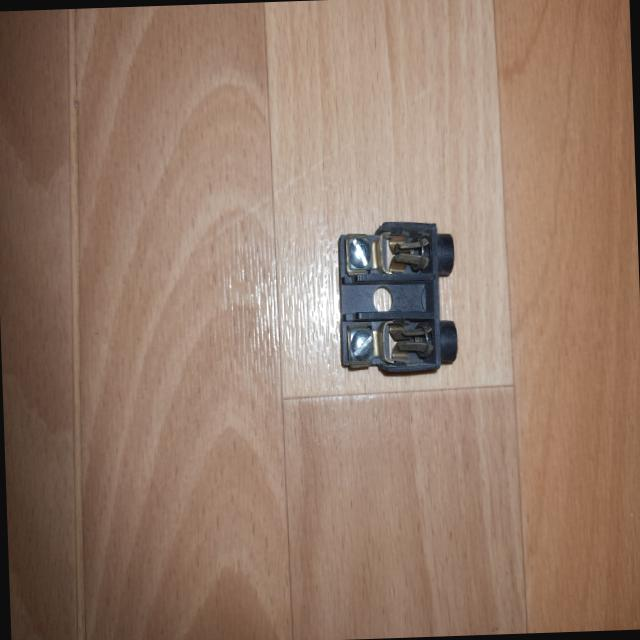Slotted: (349, 329, 374, 361), (348, 236, 371, 268)
